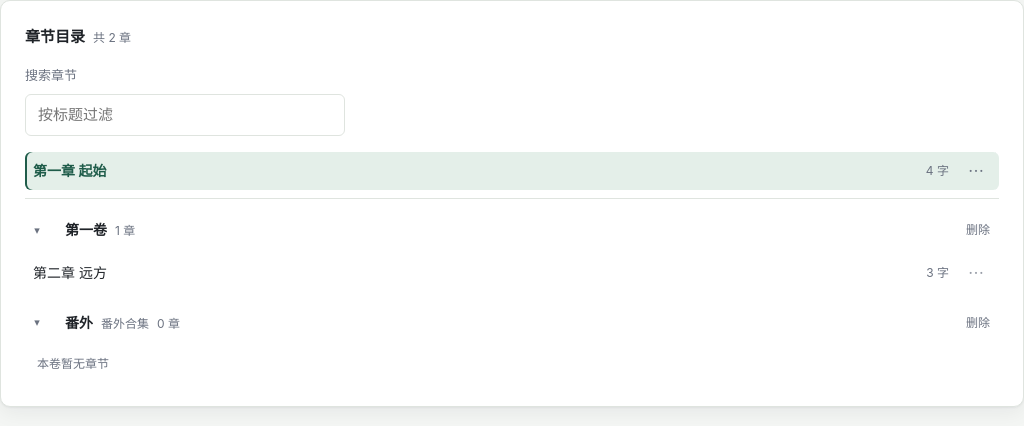
ChapterTree › keeps chapter deletion enabled when more than one chapter exists
The width and height of the screenshot is (1024, 426).
Step 1. Click the button with test id "chapter-menu" next to "4 字" → (976, 171), box 961,158 -> 991,184
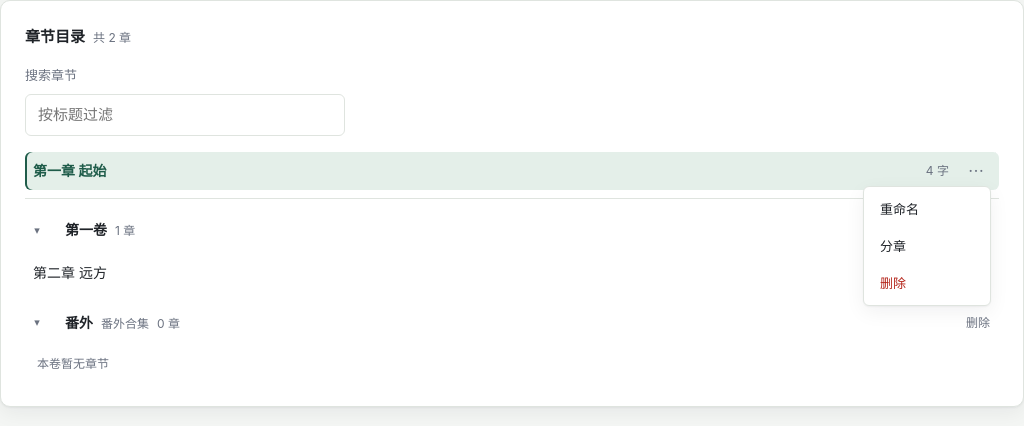
Check: the button with test id "delete-chapter" is enabled, box 868,265 -> 986,301
